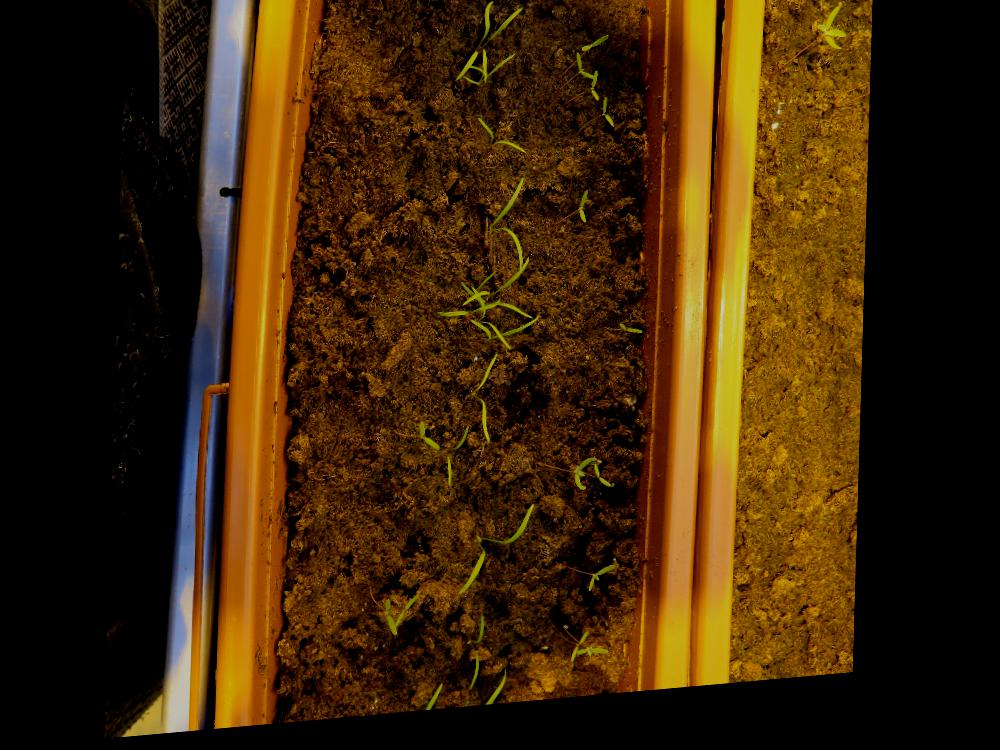weed: (814, 15, 852, 68), (590, 572, 623, 603), (420, 424, 445, 460), (603, 105, 619, 139), (620, 331, 648, 346), (580, 197, 591, 235)
